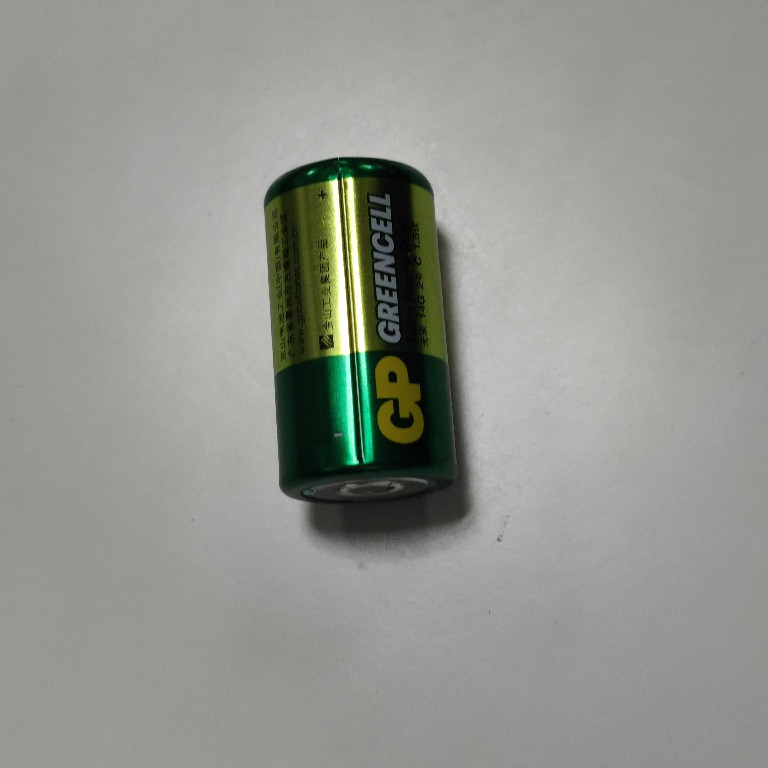charge: (257, 152, 464, 509)
